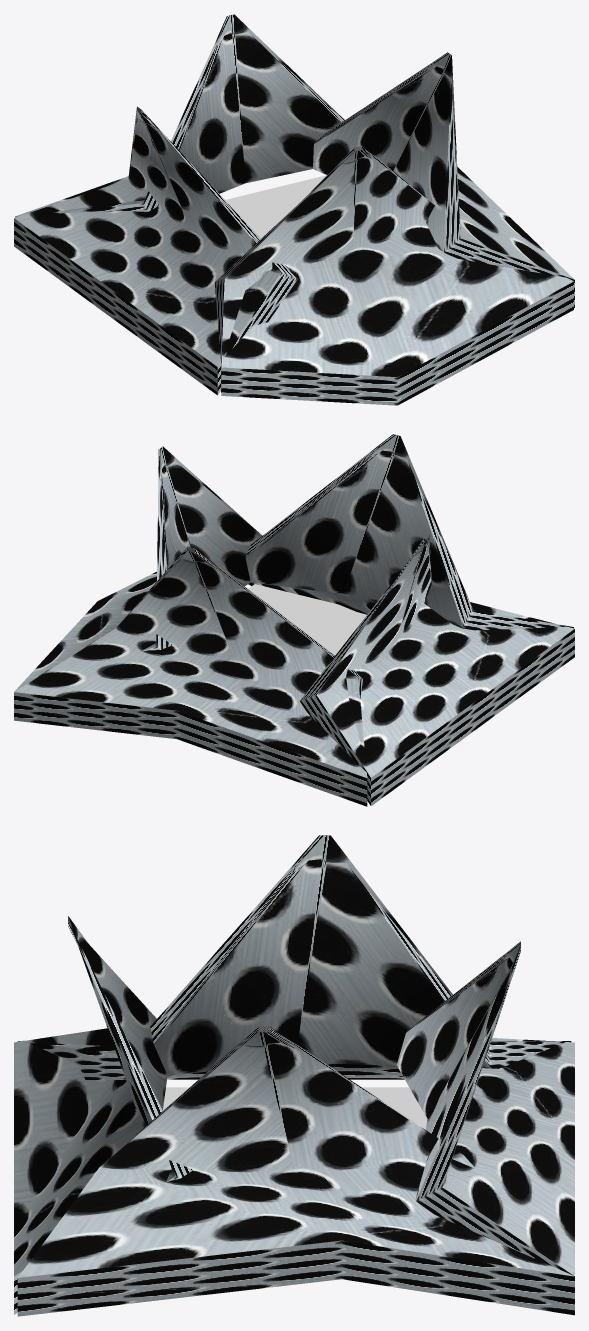
File: hole in wall open.FBX
3 views of the same model, one above another, from view 1: azimuth 30°, elevation 25°; view 2: azimuth 150°, elevation 25°; view 3: azimuth 270°, elevation 25° (orthographic). The views are drawn at different scales.
Visible parts, largest first — view 1: Box002, Plane001; view 2: Box002, Plane001; view 3: Box002, Plane001.
Part boxes in pixels (bbox=[...]): Box002: bbox=[14, 14, 574, 405]; Plane001: bbox=[225, 175, 326, 238]; Box002: bbox=[14, 434, 574, 806]; Plane001: bbox=[248, 584, 366, 655]; Box002: bbox=[14, 835, 574, 1316]; Plane001: bbox=[163, 1087, 427, 1129].
Size of the model in its own units: 20.23 by 13.48 by 20.23.
